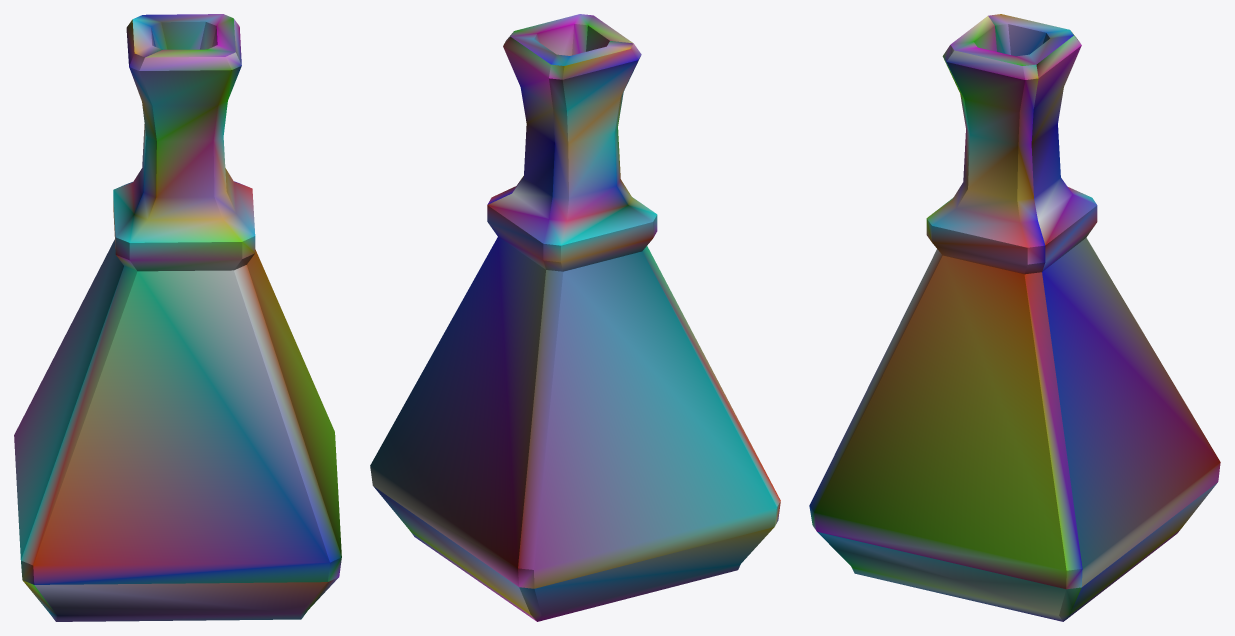
The model's file is Pot03.fbx.
3 views of the same model, side by side, from view 1: azimuth 30°, elevation 25°; view 2: azimuth 150°, elevation 25°; view 3: azimuth 270°, elevation 25° (orthographic). The views are drawn at different scales.
Parts seen in each view (by area): view 1: Pot; view 2: Pot; view 3: Pot.
Part boxes in pixels (left/top/right/bottom): Pot: left=14, top=14, right=341, bottom=621; Pot: left=370, top=14, right=780, bottom=621; Pot: left=809, top=14, right=1220, bottom=621.
Size of the model in its own units: 32.42 by 44.95 by 32.44.
